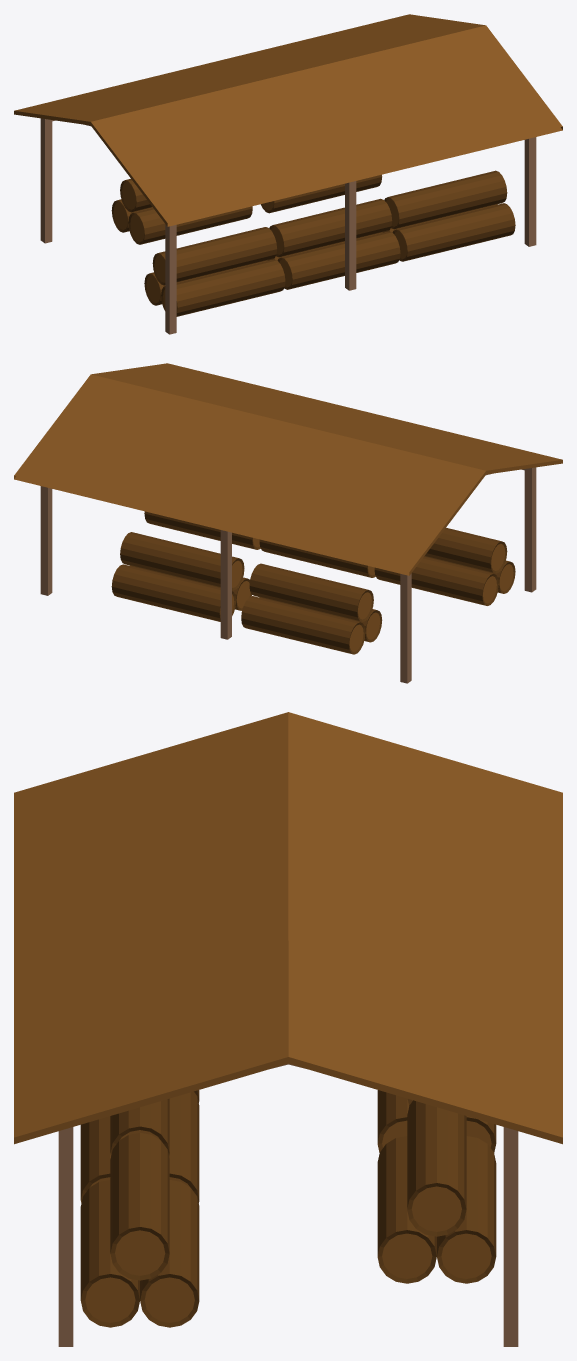
File: lumber_storage.glb
3 views of the same model, one above another, from view 1: azimuth 30°, elevation 25°; view 2: azimuth 150°, elevation 25°; view 3: azimuth 270°, elevation 25° (orthographic). The views are drawn at different scales.
Parts seen in each view (by area): view 1: Cube.001, Log.001 (×5), Log.002 (×4), Cube.002, Cube, Log.003 (×2); view 2: Cube.001, Log.003 (×5), Log.002 (×3), Cube, Cube.002, Log.001 (×3); view 3: Cube.001, Log.002 (×3), Log.001 (×4), Log.003 (×3), Cube.002, Cube.
Boxes of the visible parts, bbox=[...] form: Cube.001: bbox=[14, 14, 562, 226]; Log.001 (×5): bbox=[128, 174, 515, 316]; Log.002 (×4): bbox=[120, 170, 507, 285]; Cube.002: bbox=[165, 137, 536, 334]; Cube: bbox=[40, 118, 90, 243]; Log.003 (×2): bbox=[111, 199, 267, 305]; Cube.001: bbox=[14, 363, 562, 575]; Log.003 (×5): bbox=[111, 511, 498, 654]; Log.002 (×3): bbox=[120, 527, 507, 622]; Cube: bbox=[40, 486, 411, 683]; Cube.002: bbox=[486, 467, 536, 592]; Log.001 (×3): bbox=[130, 556, 515, 642]; Cube.001: bbox=[14, 712, 562, 1144]; Log.002 (×3): bbox=[110, 1098, 466, 1280]; Log.001 (×4): bbox=[80, 1090, 436, 1327]; Log.003 (×3): bbox=[140, 1091, 496, 1327]; Cube.002: bbox=[58, 1063, 288, 1346]; Cube: bbox=[288, 1064, 518, 1346].
Bounding box in the file's own units: 5.5 × 2.25 × 3.7.
